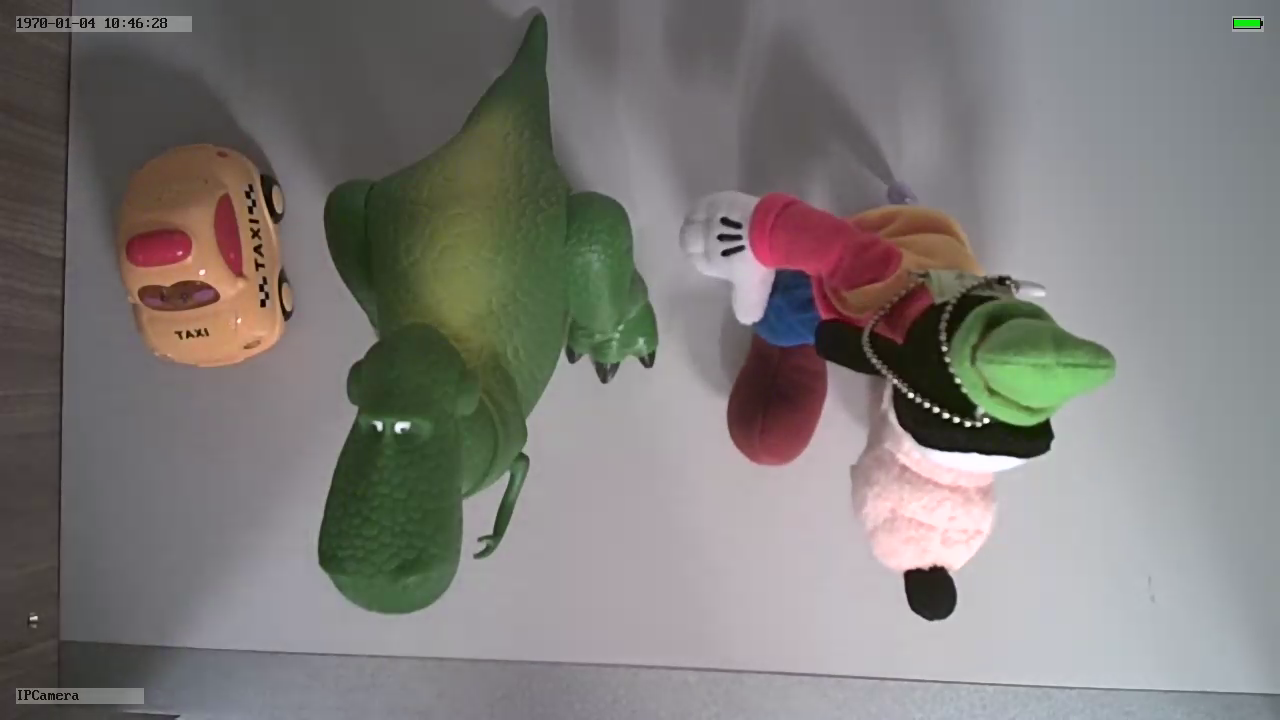goofy: (675, 183, 1119, 627)
